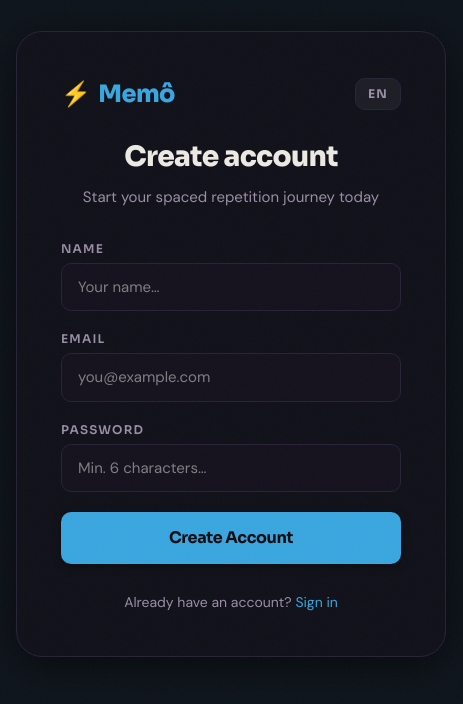
Test case: RegisterPage › shows error message on registration failure
Type "John" into the field labelled "Name".
click(231, 287); type("John")  # box [61, 262, 401, 311]
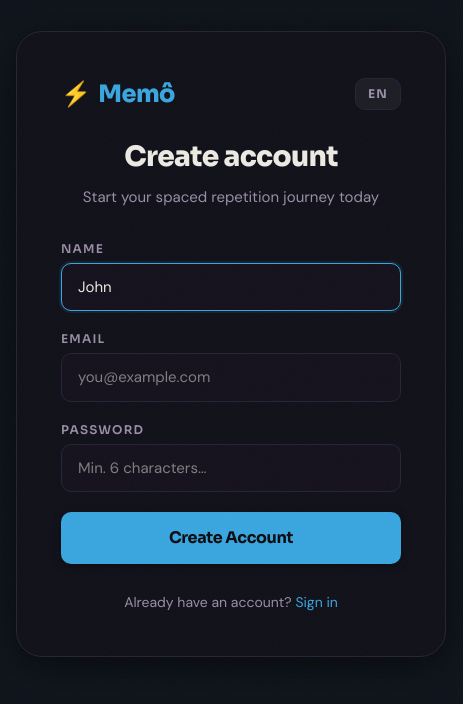
Type "john@example.com" into the field labelled "Email".
click(231, 377); type("john@example.com")  # box [61, 353, 401, 402]
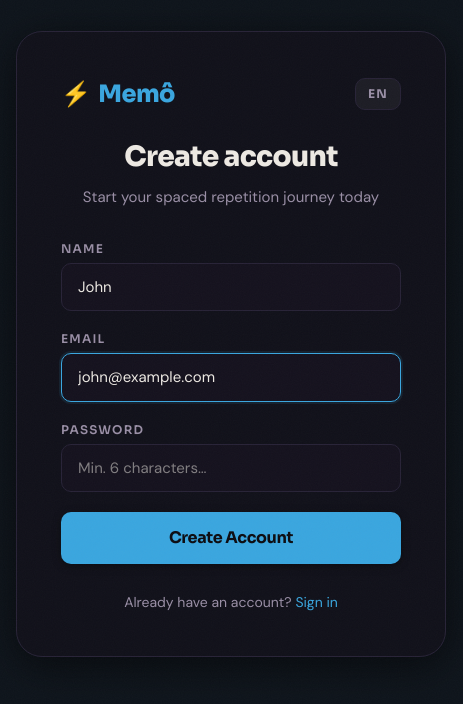
Type "SecurePass123!" into the password field labelled "Password".
click(231, 468); type("SecurePass123!")  # box [61, 444, 401, 492]
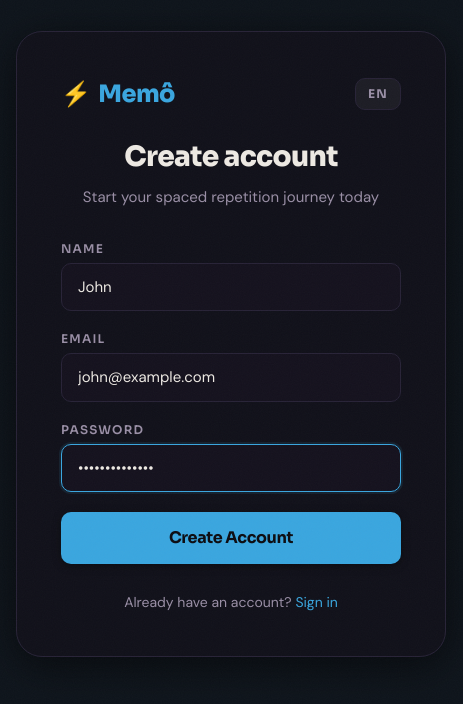
Click the button "Create Account".
click(231, 538)  # box [61, 512, 401, 564]
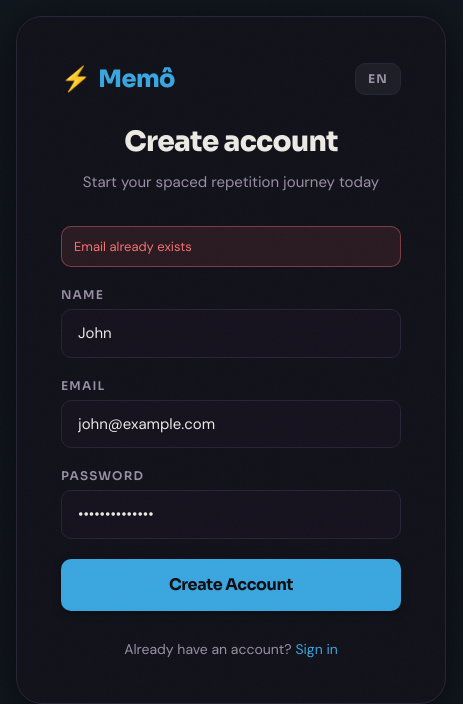
Expected: the message reads "Email already exists", [74, 238, 192, 254]
